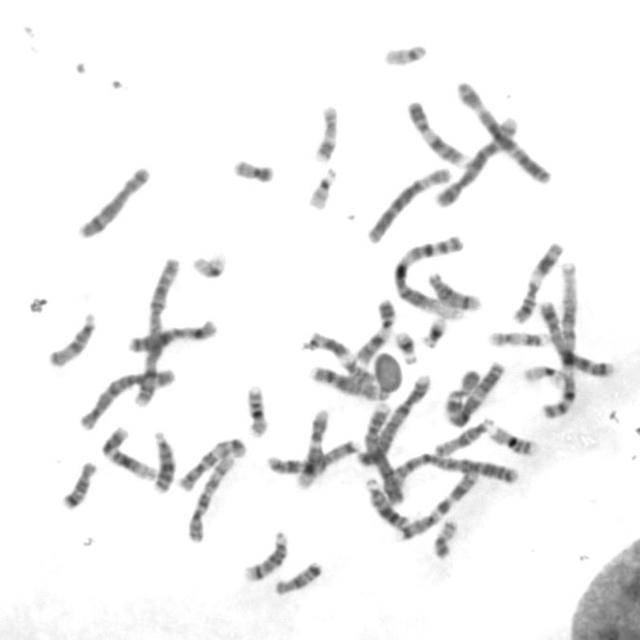A1: (538, 267, 588, 425), (388, 231, 467, 321)
A2: (130, 253, 181, 409), (385, 450, 521, 488)
A3: (454, 76, 553, 186), (440, 358, 506, 427)
B4: (354, 369, 432, 468), (360, 398, 405, 506)
B5: (432, 113, 521, 209), (536, 298, 616, 378)
C10: (184, 449, 236, 544), (261, 433, 360, 479)
C11: (509, 238, 565, 326), (304, 329, 371, 381)
C12: (98, 422, 158, 480), (293, 406, 332, 490)
C6: (363, 164, 452, 245), (75, 364, 178, 431)
C7: (393, 467, 479, 542), (176, 434, 248, 493)
C8: (76, 162, 150, 240), (306, 362, 388, 402)
C9: (403, 97, 467, 169), (351, 296, 396, 366)
D13: (361, 474, 410, 532), (148, 428, 176, 493)
D14: (238, 527, 288, 583), (425, 268, 482, 312)
D15: (45, 308, 100, 369), (432, 414, 496, 458)
E16: (486, 422, 539, 457), (242, 382, 270, 438)
E17: (310, 101, 340, 164), (484, 328, 551, 349)
E18: (58, 458, 99, 511), (271, 558, 323, 597)
F19: (189, 250, 228, 280), (520, 362, 563, 389)
F20: (430, 515, 460, 560), (230, 156, 276, 185)
G21: (392, 327, 420, 365), (419, 314, 449, 349)
G22: (304, 164, 340, 212), (379, 40, 428, 69)
X: (123, 316, 219, 354)
Y: (458, 367, 484, 395)
